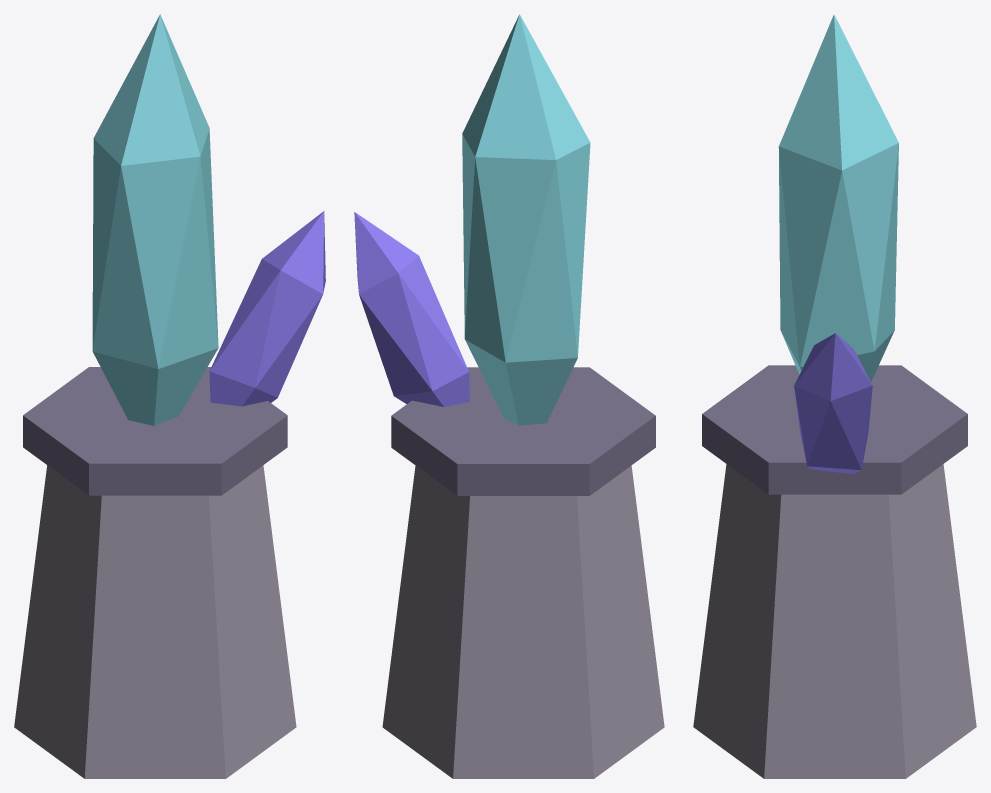
Rendered from crystal_lamp.glb.
3 renders of one model, left to right at view 1: azimuth 30°, elevation 25°; view 2: azimuth 150°, elevation 25°; view 3: azimuth 270°, elevation 25°, orthographic.
Parts seen in each view (by area): view 1: crystal_lamp; view 2: crystal_lamp; view 3: crystal_lamp.
Boxes of the visible parts, <box> form: crystal_lamp: <box>14,14,325,778</box>; crystal_lamp: <box>354,14,664,778</box>; crystal_lamp: <box>693,14,976,778</box>.
Bounding box in the file's own units: 0.7197 × 1.78 × 0.64.
